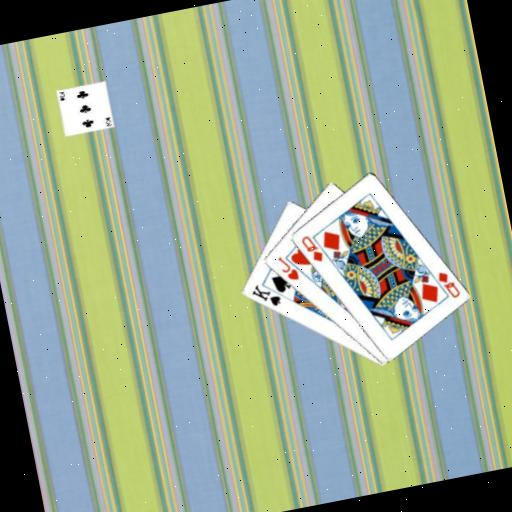JH: (274, 251, 301, 285)
KS: (246, 278, 283, 313)
QD: (297, 231, 326, 267), (433, 266, 462, 302)
